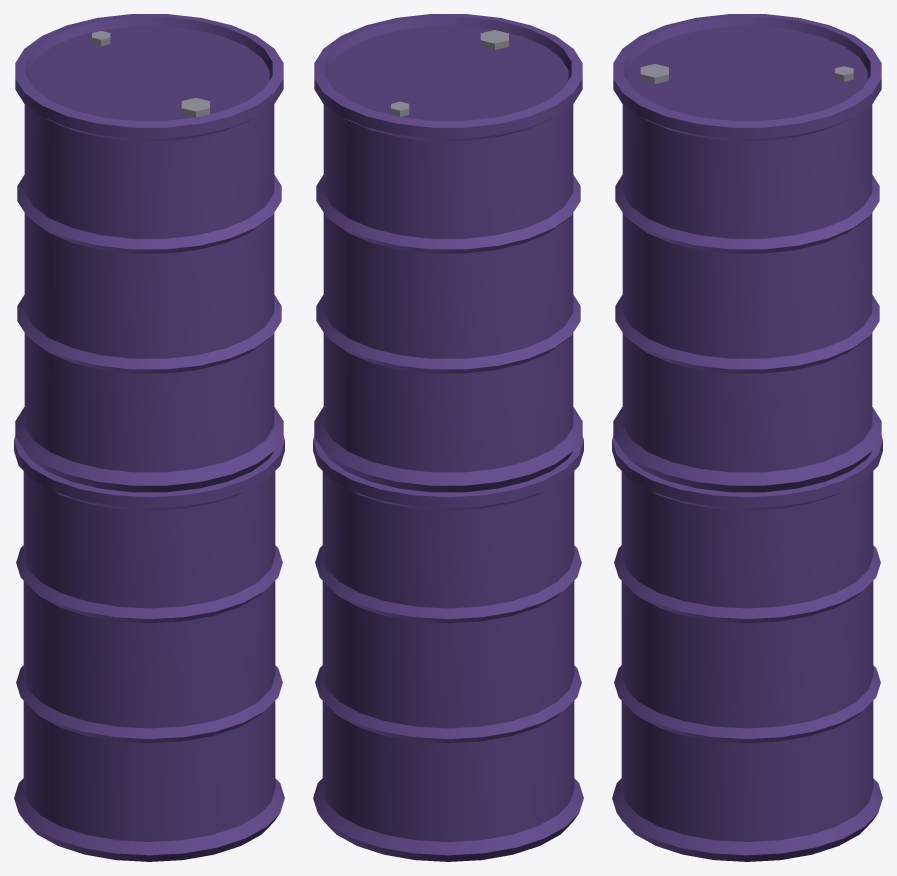
File: steel_drum.glb
The picture shows the model from 3 angles, left to right: view 1: azimuth 30°, elevation 25°; view 2: azimuth 150°, elevation 25°; view 3: azimuth 270°, elevation 25°; orthographic projection.
Parts seen in each view (by area): view 1: steel_drum; view 2: steel_drum; view 3: steel_drum.
Part boxes in pixels (<box>): steel_drum: <box>14,14,284,861</box>; steel_drum: <box>313,14,583,861</box>; steel_drum: <box>612,14,882,861</box>.
Size of the model in its own units: 0.532 by 1.6 by 0.532.
